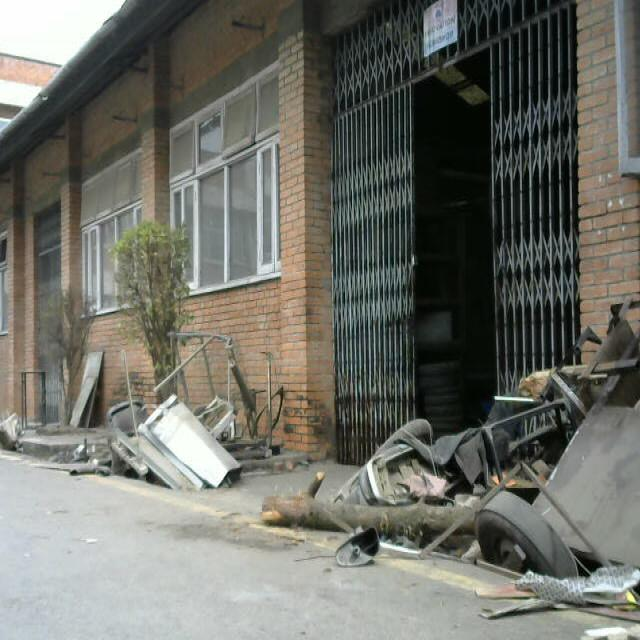Buildings: (0, 0, 636, 483)
Road: (1, 457, 600, 640)
